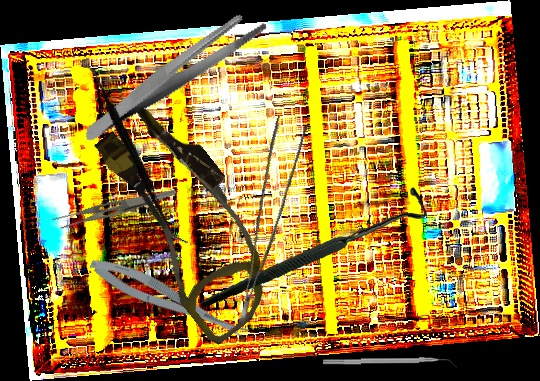Cannula: (71, 93, 305, 348)
Chopper: (322, 356, 458, 373)
Dressing Forceps: (63, 7, 285, 143), (51, 176, 177, 236)
Hook Surgical: (199, 172, 429, 323)
Micro Scissor: (85, 249, 252, 351)
Spatula Surgical: (26, 56, 242, 247)
Tissue Forceps: (204, 115, 318, 324)
